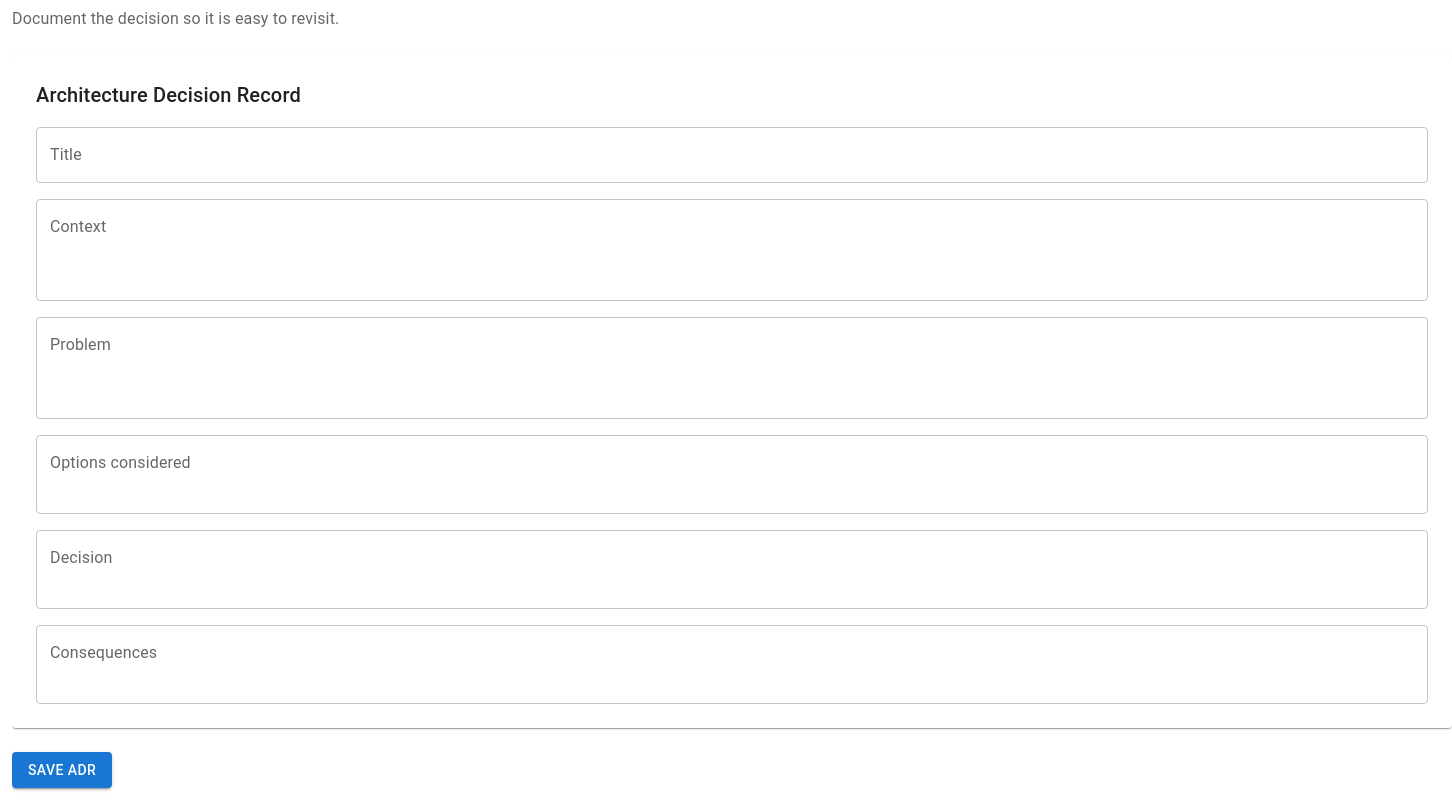
Test: ADR views › validates all required decision content before creating
This screenshot has width=1452, height=804.
(page scrolled)
What coordinates should you click on to do the following:
click the button "Save ADR"
I would click on:
 (62, 770)
Its box is [12,752,112,788].
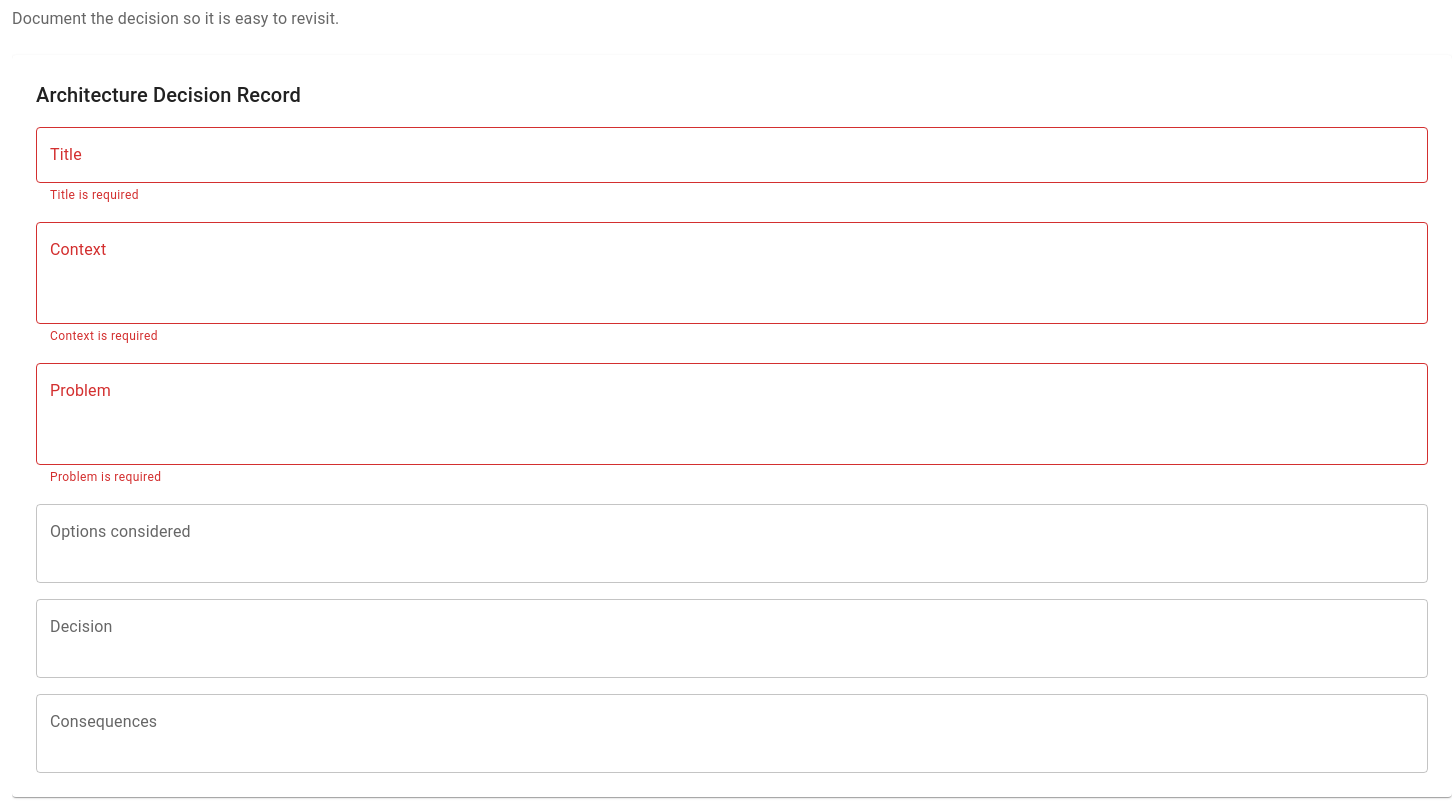
Result: the text "Title is required" is shown at [50,188,139,202]
